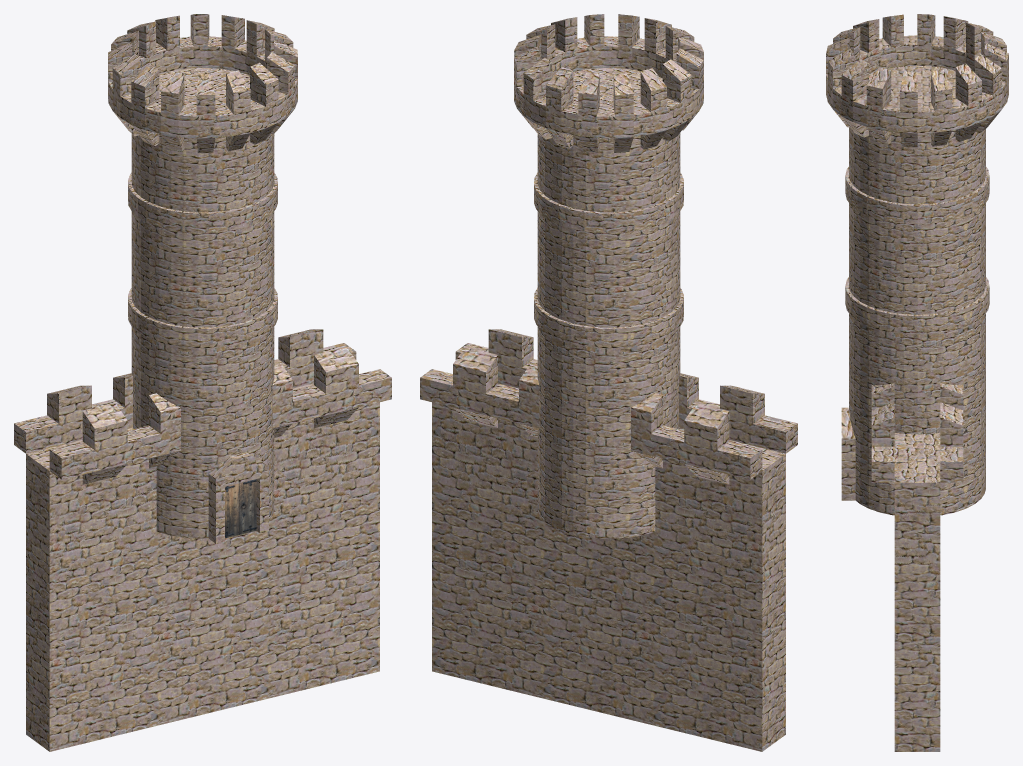
Rendered from CastleKit.gltf.
3 views of the same model, side by side, from view 1: azimuth 30°, elevation 25°; view 2: azimuth 150°, elevation 25°; view 3: azimuth 270°, elevation 25° (orthographic). The views are drawn at different scales.
Parts seen in each view (by area): view 1: wall_segment, tower_segment, gate_segment, gate_door; view 2: wall_segment, tower_segment, gate_segment; view 3: tower_segment, wall_segment, gate_segment, gate_door.
Boxes of the visible parts, left/top/right/bottom form: wall_segment: left=14, top=329, right=391, bottom=751; tower_segment: left=108, top=14, right=297, bottom=538; gate_segment: left=26, top=413, right=379, bottom=556; gate_door: left=208, top=452, right=268, bottom=543; wall_segment: left=420, top=329, right=797, bottom=751; tower_segment: left=514, top=14, right=703, bottom=538; gate_segment: left=432, top=412, right=785, bottom=556; tower_segment: left=826, top=14, right=1008, bottom=515; wall_segment: left=871, top=383, right=963, bottom=751; gate_segment: left=894, top=503, right=940, bottom=565; gate_door: left=841, top=407, right=855, bottom=500.
Size of the model in its own units: 16 by 30.5 by 8.
Materials: 2 (2 with a texture image).
